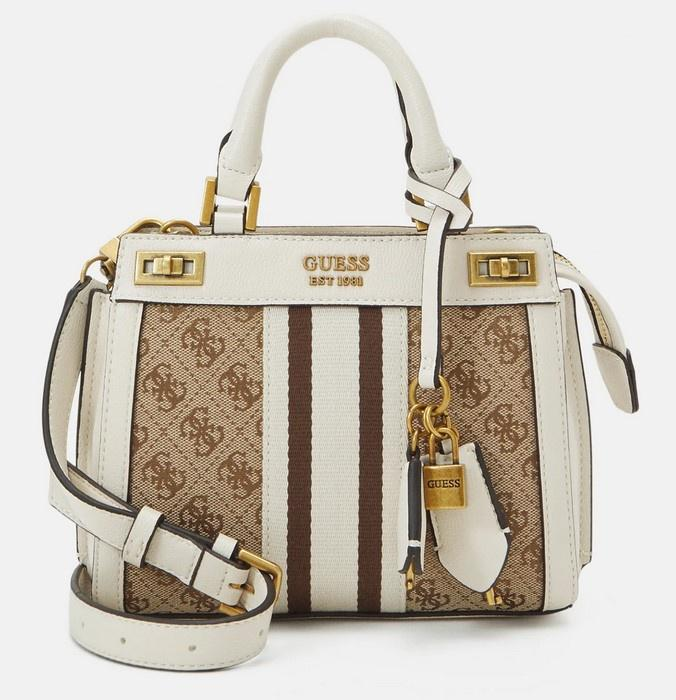GUESS: (303, 255, 370, 272), (427, 479, 462, 488)
